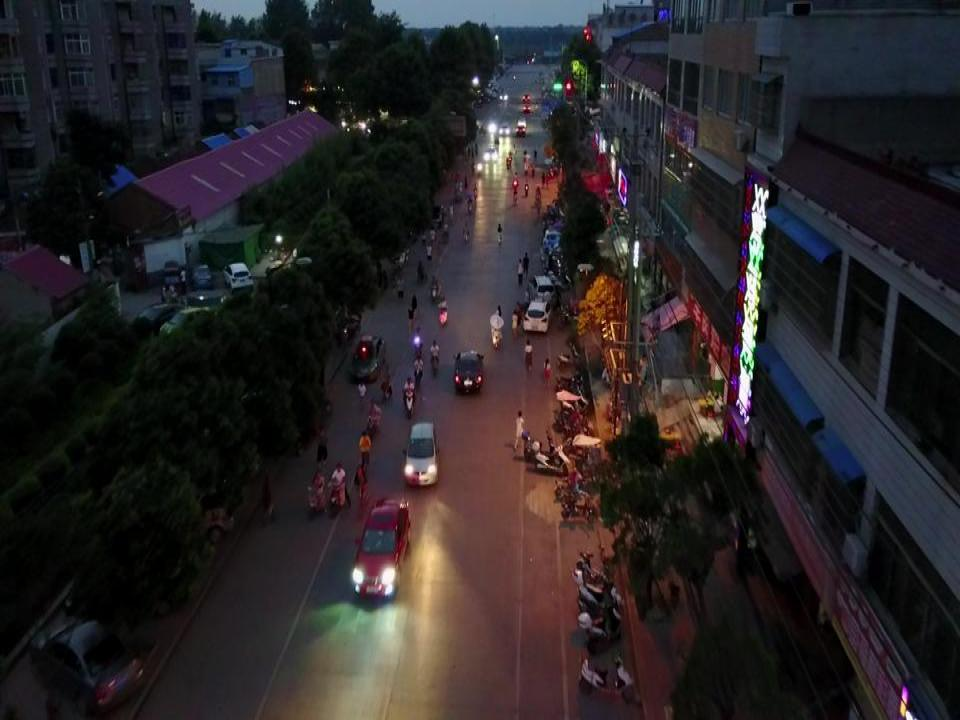car: (34, 610, 147, 714), (124, 479, 234, 544), (349, 496, 413, 603), (273, 395, 334, 453), (232, 387, 294, 437), (401, 421, 438, 487), (157, 305, 214, 343), (119, 303, 176, 340), (348, 332, 387, 381), (452, 348, 482, 393), (525, 274, 553, 310), (222, 260, 254, 289), (522, 300, 549, 333), (190, 261, 212, 291), (165, 260, 182, 289)
